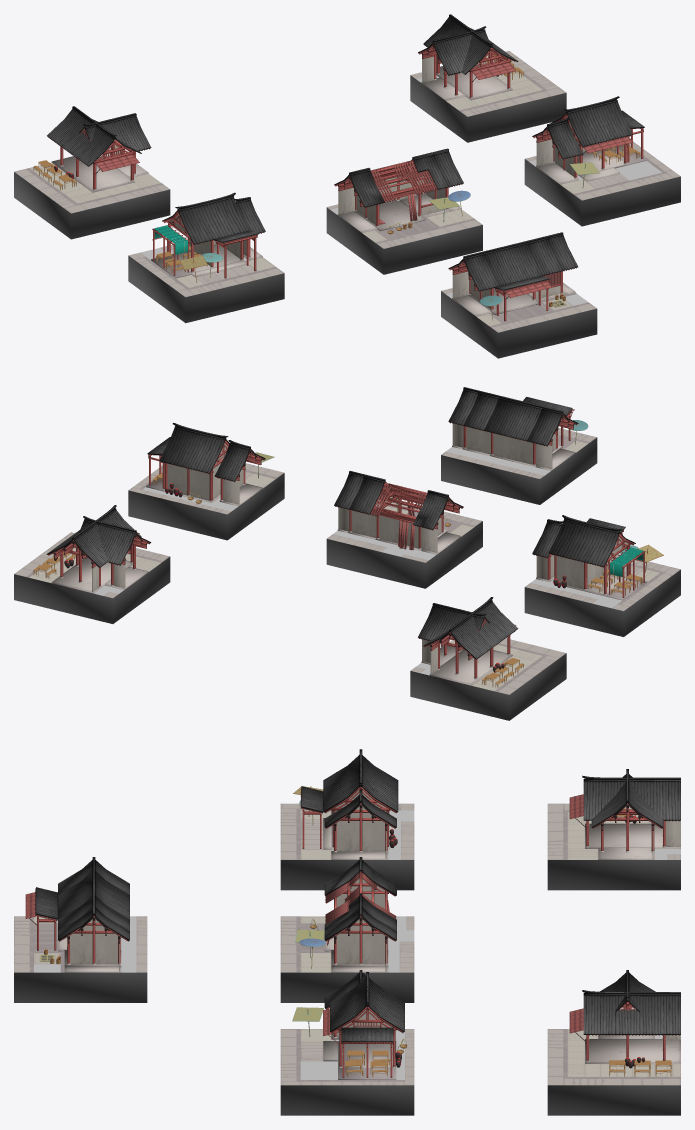
File: Building_Retail.fbx
The picture shows the model from 3 angles, top to bottom: view 1: azimuth 30°, elevation 25°; view 2: azimuth 150°, elevation 25°; view 3: azimuth 270°, elevation 25°; orthographic projection. The views are drawn at different scales.
Visible parts, largest first — view 1: B-RT-2, B-RT-0, B-RT-1, B-RT-4, B-RT-3, B-RT-5; view 2: B-RT-1, B-RT-0, B-RT-4, B-RT-2, B-RT-3, B-RT-5; view 3: B-RT-5, B-RT-0, B-RT-3, B-RT-4, B-RT-1, B-RT-2.
Part boxes in pixels (x1,y1,x2,y2): B-RT-2: (326, 148, 482, 274); B-RT-0: (441, 232, 597, 358); B-RT-1: (128, 192, 284, 323); B-RT-4: (14, 106, 170, 239); B-RT-3: (524, 96, 680, 226); B-RT-5: (410, 14, 566, 142); B-RT-1: (524, 515, 680, 636); B-RT-0: (441, 387, 597, 504); B-RT-4: (410, 597, 566, 720); B-RT-2: (326, 471, 482, 588); B-RT-3: (128, 423, 284, 540); B-RT-5: (14, 505, 170, 623); B-RT-5: (547, 970, 680, 1115); B-RT-0: (14, 857, 147, 1002); B-RT-3: (280, 970, 414, 1115); B-RT-4: (547, 769, 680, 890); B-RT-1: (280, 749, 414, 890); B-RT-2: (280, 857, 414, 1002).
Size of the model in its own units: 5000 by 816 by 5000.
